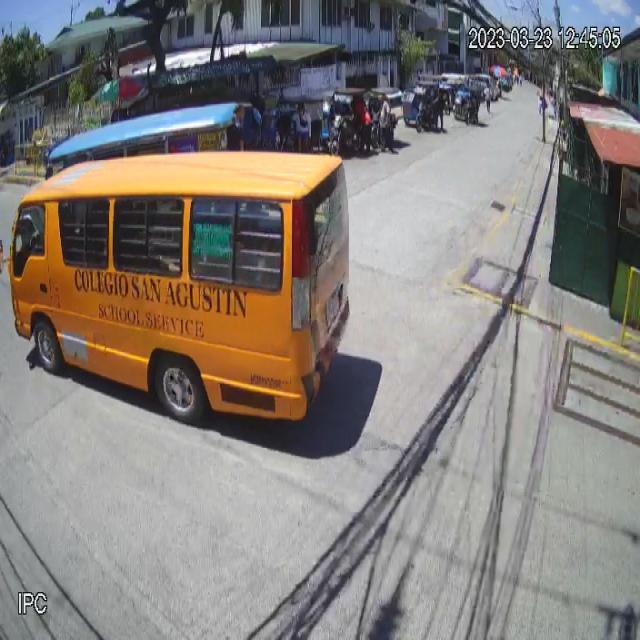Van: (0, 149, 350, 427)
